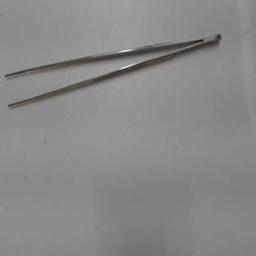DeBakey Dissector: (2, 22, 228, 122)
